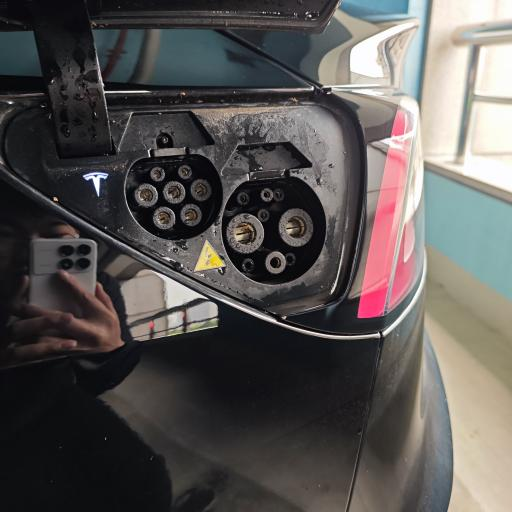AC_charging_hole: (123, 151, 225, 244)
DC_charging_port: (220, 173, 329, 288)
DC_hole: (224, 213, 266, 254), (278, 206, 316, 248)
PE: (264, 250, 288, 276)
